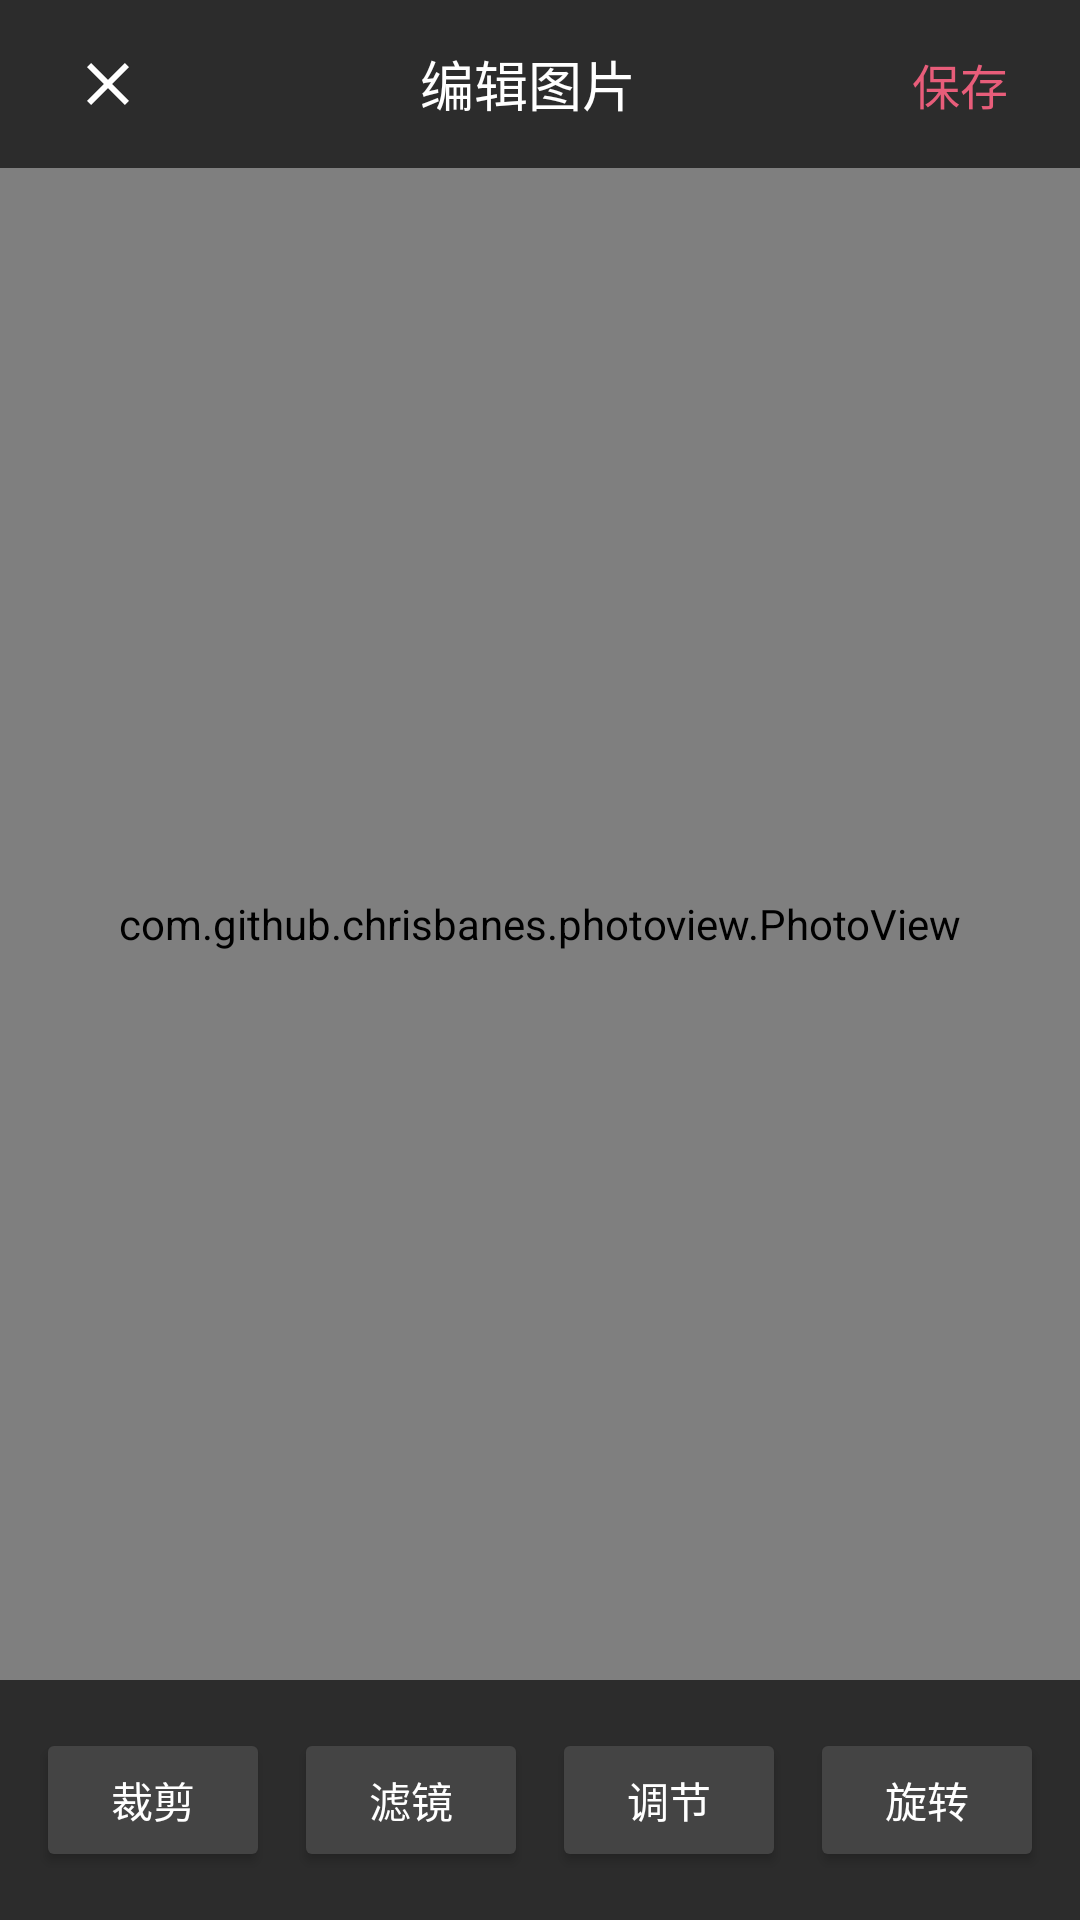

Icon bounding boxes for this 1080px x 1920px phone screenshot, format [left=x1, top=y1, right=x2, bottom=y2]:
close: [left=87, top=63, right=129, bottom=105]
